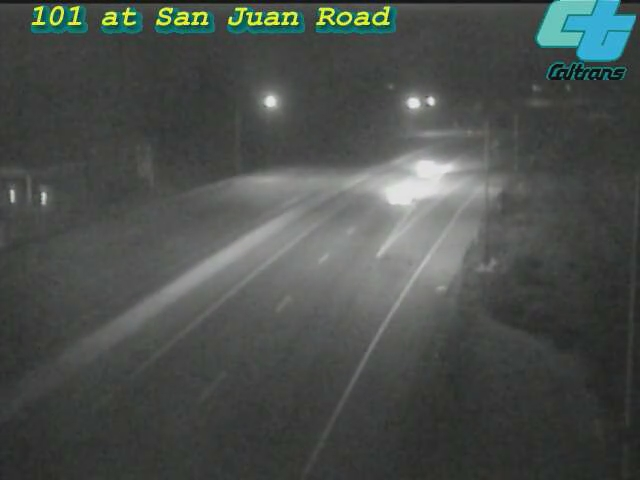vehicle: (390, 127, 470, 207), (358, 157, 438, 237)
